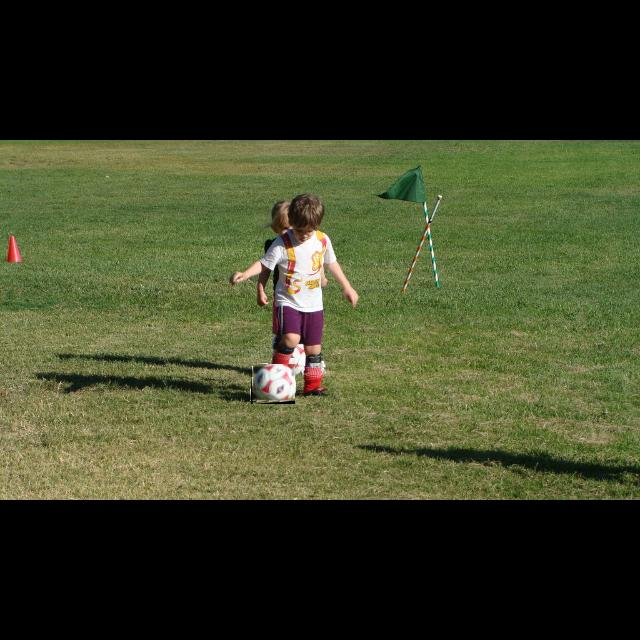Football: (251, 364, 295, 404)
